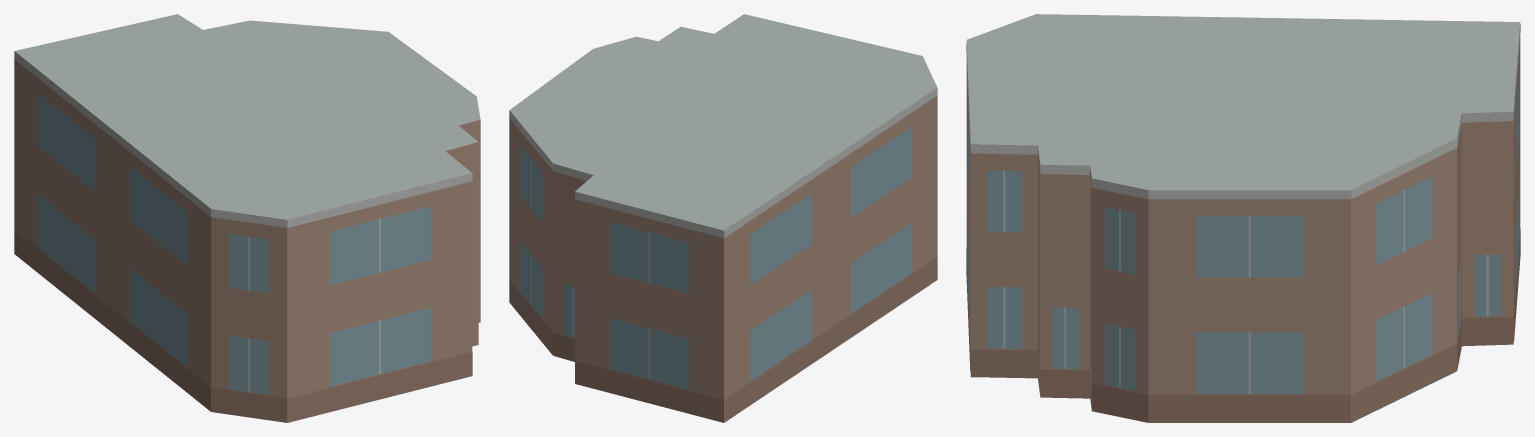
Rendered from survey-upis-32585833.glb.
3 renders of one model, left to right at view 1: azimuth 30°, elevation 25°; view 2: azimuth 150°, elevation 25°; view 3: azimuth 270°, elevation 25°, orthographic. The views are drawn at different scales.
Parts seen in each view (by area): view 1: survey-upis-32585833.tmp; view 2: survey-upis-32585833.tmp; view 3: survey-upis-32585833.tmp.
Part boxes in pixels (x1,y1,x2,y2): survey-upis-32585833.tmp: (14,14,480,422); survey-upis-32585833.tmp: (509,14,937,422); survey-upis-32585833.tmp: (966,14,1520,422).
Size of the model in its own units: 9.91 by 6.1 by 13.17.
